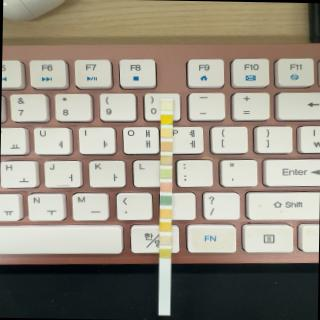mark: (160, 154, 172, 164), (160, 141, 172, 151), (160, 114, 172, 124), (161, 100, 173, 110), (160, 234, 172, 244), (160, 221, 172, 231), (159, 208, 171, 218), (160, 182, 172, 192), (160, 168, 172, 178), (159, 248, 172, 257), (160, 128, 172, 137), (160, 196, 172, 204)
